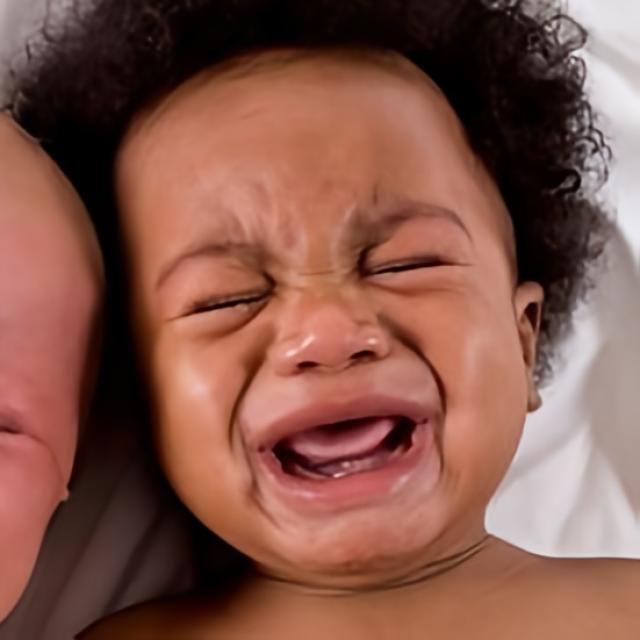sad: (118, 47, 532, 578)
